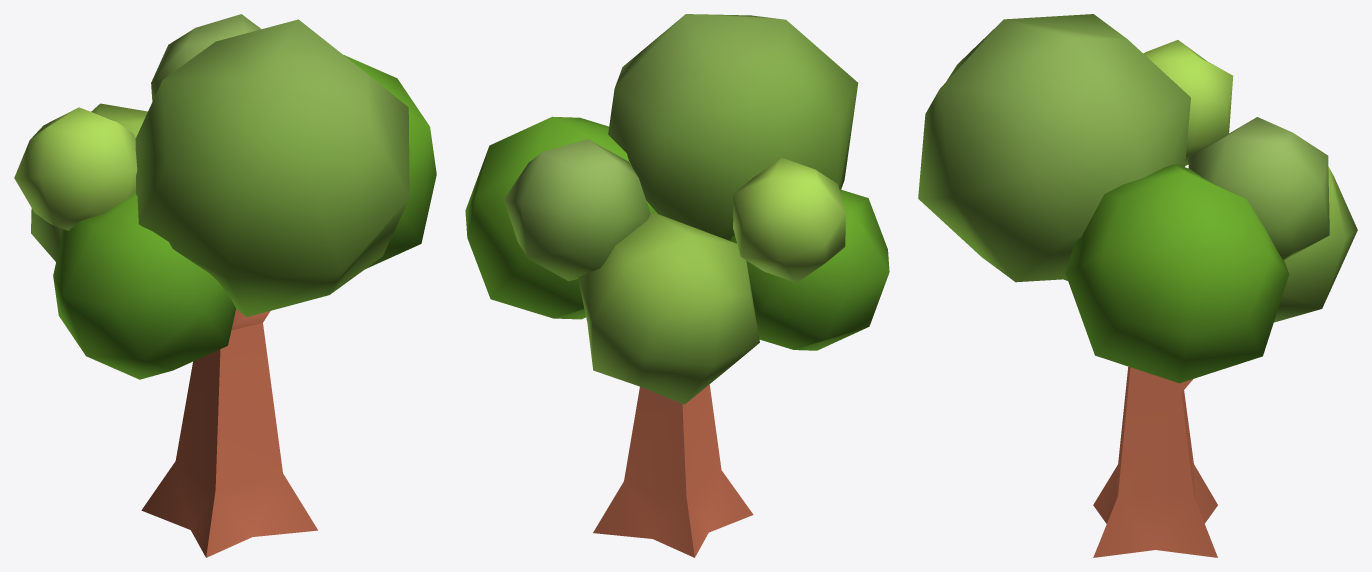
The model's file is Map02_Decor_Cay.fbx.
3 renders of one model, left to right at view 1: azimuth 30°, elevation 25°; view 2: azimuth 150°, elevation 25°; view 3: azimuth 270°, elevation 25°, orthographic. The views are drawn at different scales.
Visible parts, largest first — view 1: Map02_Decor_Cay; view 2: Map02_Decor_Cay; view 3: Map02_Decor_Cay.
Part boxes in pixels (x1,y1,x2,y2): Map02_Decor_Cay: (14, 14, 436, 557); Map02_Decor_Cay: (465, 14, 889, 557); Map02_Decor_Cay: (918, 14, 1357, 557).
Size of the model in its own units: 992 by 1199 by 944.
